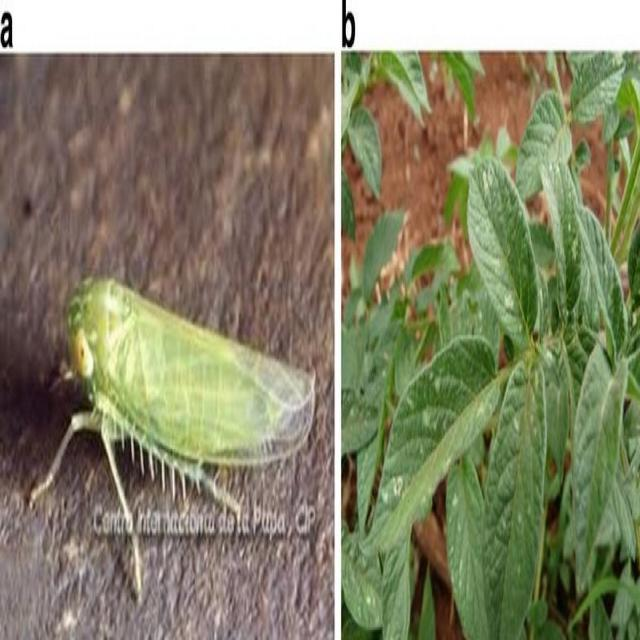Yechan: (52, 252, 320, 482)
